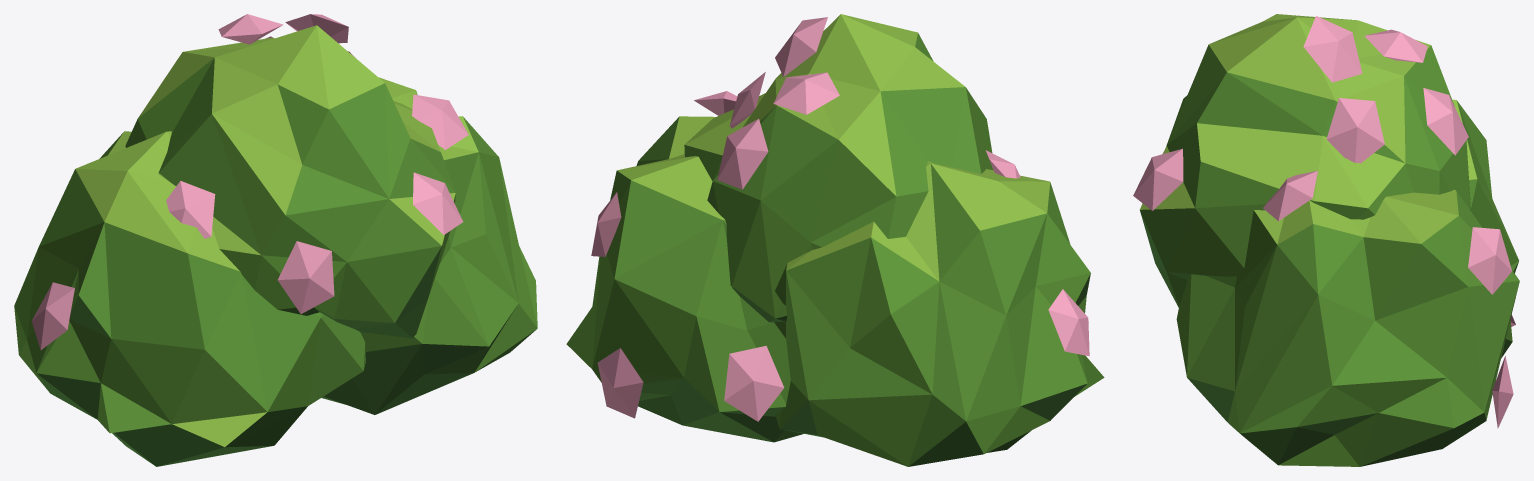
File: Veg_Bluetenbusch.fbx
3 renders of one model, left to right at view 1: azimuth 30°, elevation 25°; view 2: azimuth 150°, elevation 25°; view 3: azimuth 270°, elevation 25°, orthographic.
Visible parts, largest first — view 1: Veg_Bluetenbusch; view 2: Veg_Bluetenbusch; view 3: Veg_Bluetenbusch.
Part boxes in pixels (bbox=[...]): Veg_Bluetenbusch: bbox=[14, 14, 537, 466]; Veg_Bluetenbusch: bbox=[566, 14, 1104, 466]; Veg_Bluetenbusch: bbox=[1133, 14, 1519, 466].
Bounding box in the file's own units: 1.3 × 1 × 0.9144.
